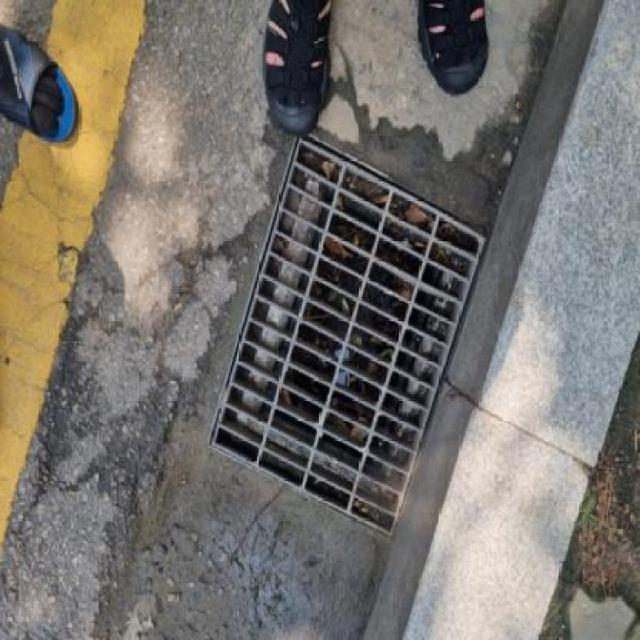Drain Hole: (181, 154, 509, 531)
